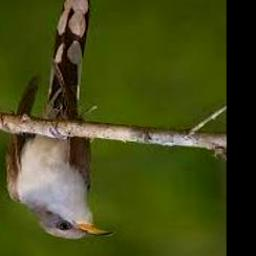Cuckoo: (7, 0, 115, 239)
